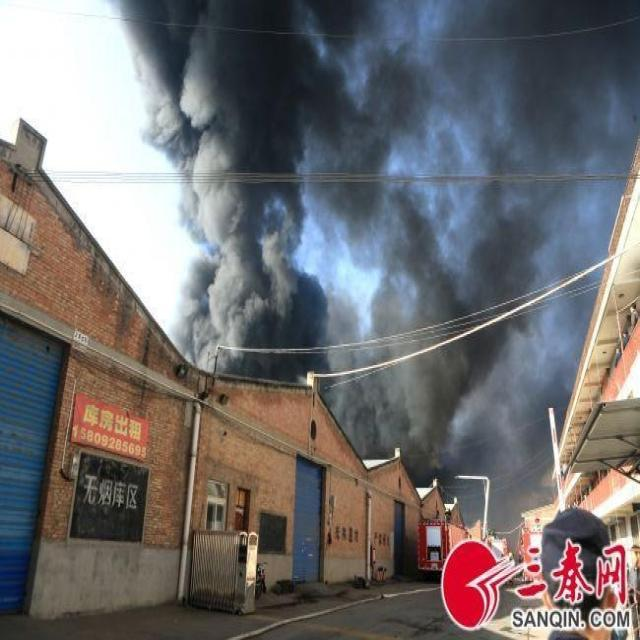Smoke: (114, 1, 640, 552)
